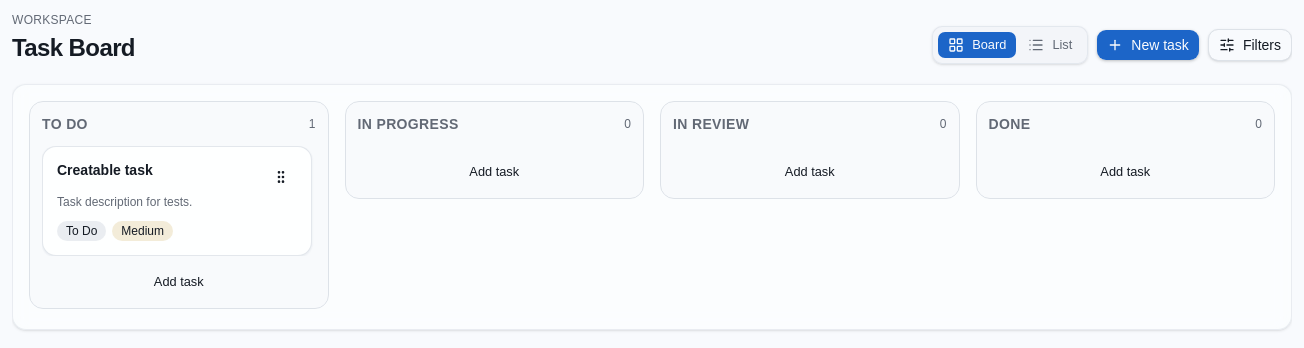
Test case: TaskViewSwitcher › keeps the create action available in both views
Expected: the button "New task" is shown, [1096, 29, 1200, 61]
Click the button with aria-label "List view".
click(1050, 45)  # box [1017, 31, 1083, 59]
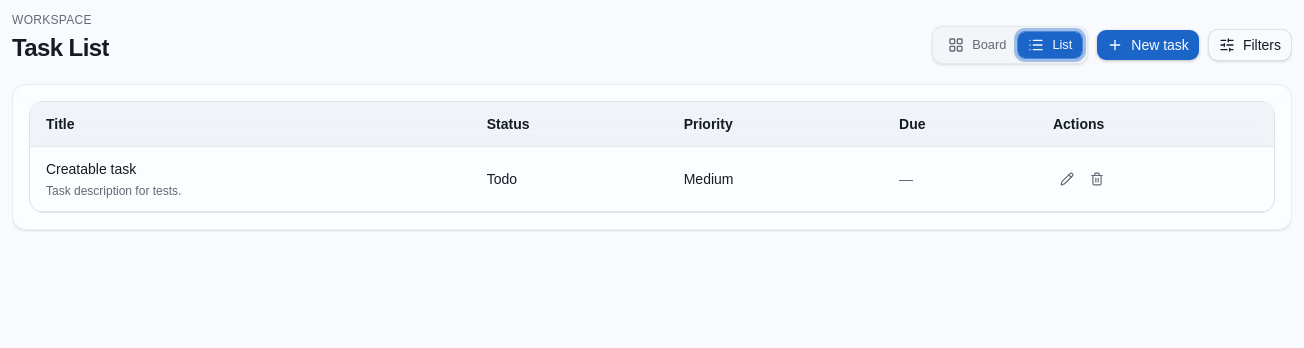
Expected: the button "New task" is shown, [1096, 29, 1200, 61]
Expected: the heading "Task List" is shown, [12, 32, 109, 64]
